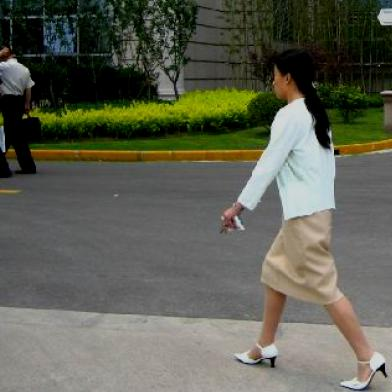ped: (222, 53, 387, 388), (1, 45, 41, 174)
